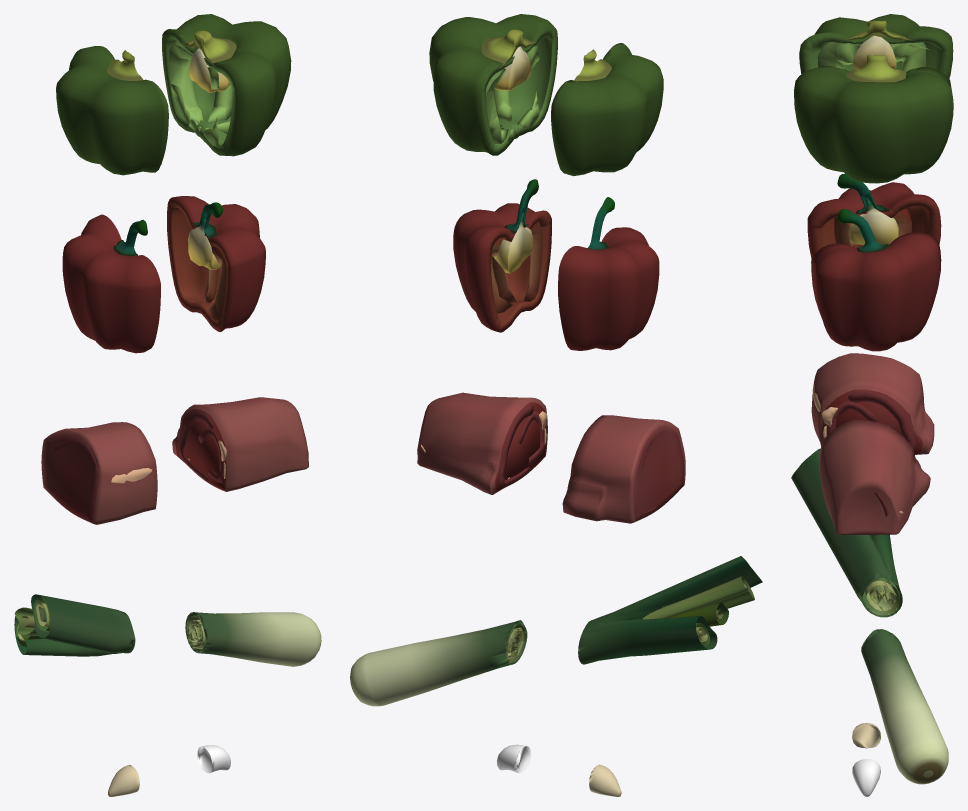
The model's file is Fan-Fang_Nainais-Recipe - Mai Hou.fbx.
3 views of the same model, side by side, from view 1: azimuth 30°, elevation 25°; view 2: azimuth 150°, elevation 25°; view 3: azimuth 270°, elevation 25° (orthographic).
Parts seen in each view (by area): view 1: GreenpepperRight, GreenPepperLeft, RedPepperRight, RedPepperLeft, MeatRight, MeatLeft, LargeScallionRight, LargeScallionLeft, GarlicRight, GarlicLeft; view 2: GreenpepperRight, GreenPepperLeft, MeatLeft, RedPepperLeft, MeatRight, RedPepperRight, LargeScallionLeft, LargeScallionRight, GarlicRight, GarlicLeft; view 3: GreenpepperRight, RedPepperRight, MeatRight, MeatLeft, LargeScallionRight, GreenPepperLeft, RedPepperLeft, LargeScallionLeft, GarlicRight, GarlicLeft.
Part boxes in pixels (x1=…): GreenpepperRight: x1=162, y1=14, x2=291, y2=156; GreenPepperLeft: x1=56, y1=46, x2=168, y2=175; RedPepperRight: x1=167, y1=196, x2=265, y2=331; RedPepperLeft: x1=62, y1=214, x2=160, y2=353; MeatRight: x1=172, y1=397, x2=308, y2=491; MeatLeft: x1=41, y1=422, x2=157, y2=524; LargeScallionRight: x1=185, y1=612, x2=321, y2=666; LargeScallionLeft: x1=14, y1=594, x2=135, y2=656; GarlicRight: x1=197, y1=745, x2=230, y2=773; GarlicLeft: x1=108, y1=764, x2=139, y2=796; GreenpepperRight: x1=429, y1=14, x2=557, y2=155; GreenPepperLeft: x1=551, y1=43, x2=663, y2=176; MeatLeft: x1=562, y1=415, x2=685, y2=523; RedPepperLeft: x1=558, y1=197, x2=659, y2=350; MeatRight: x1=417, y1=392, x2=547, y2=494; RedPepperRight: x1=453, y1=179, x2=551, y2=332; LargeScallionLeft: x1=578, y1=556, x2=762, y2=664; LargeScallionRight: x1=350, y1=620, x2=527, y2=706; GarlicRight: x1=496, y1=744, x2=530, y2=773; GarlicLeft: x1=589, y1=764, x2=621, y2=796; GreenpepperRight: x1=794, y1=55, x2=953, y2=183; RedPepperRight: x1=811, y1=209, x2=941, y2=351; MeatRight: x1=819, y1=420, x2=930, y2=534; MeatLeft: x1=811, y1=353, x2=934, y2=454; LargeScallionRight: x1=861, y1=629, x2=948, y2=784; GreenPepperLeft: x1=799, y1=14, x2=953, y2=78; RedPepperLeft: x1=807, y1=173, x2=941, y2=258; LargeScallionLeft: x1=791, y1=448, x2=902, y2=617; GarlicRight: x1=852, y1=759, x2=880, y2=796; GarlicLeft: x1=852, y1=723, x2=880, y2=748.
Bounding box in the file's own units: 0.4009 × 0.8128 × 0.1629.
